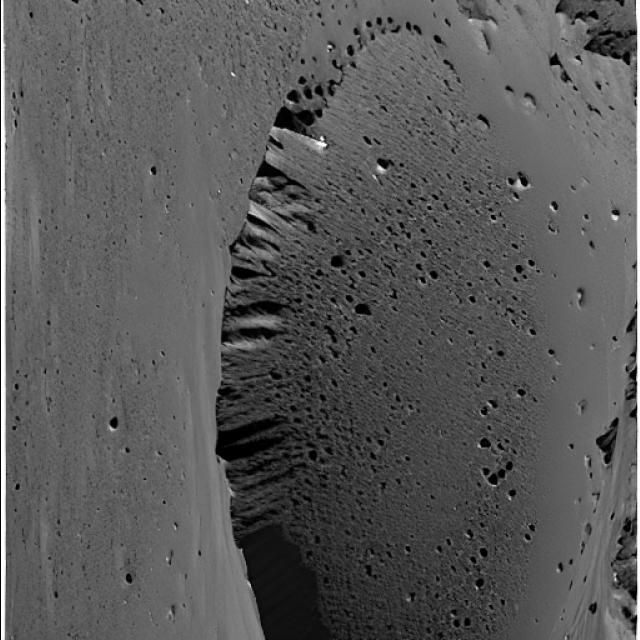crater: (212, 22, 640, 640)
